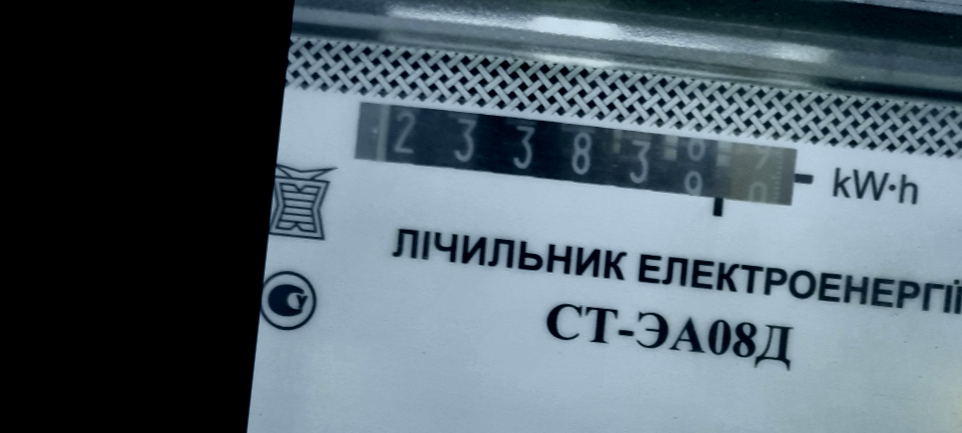0: (746, 178, 770, 206)
2: (391, 108, 420, 157)
3: (505, 121, 540, 173), (448, 113, 482, 165), (624, 137, 653, 185)
8: (565, 129, 597, 178), (683, 135, 709, 165)
9: (749, 141, 773, 173), (680, 167, 704, 198)
screen: (340, 89, 819, 230)
